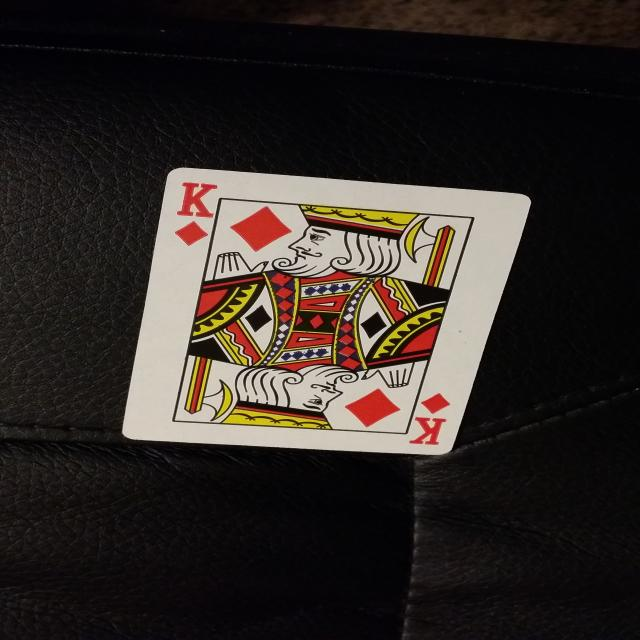Kd: (167, 172, 230, 257), (408, 388, 464, 451)
